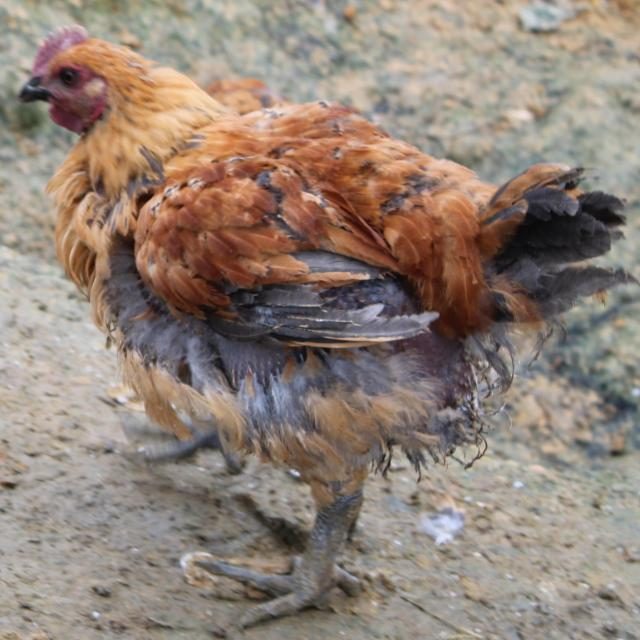hen: (20, 26, 632, 626)
